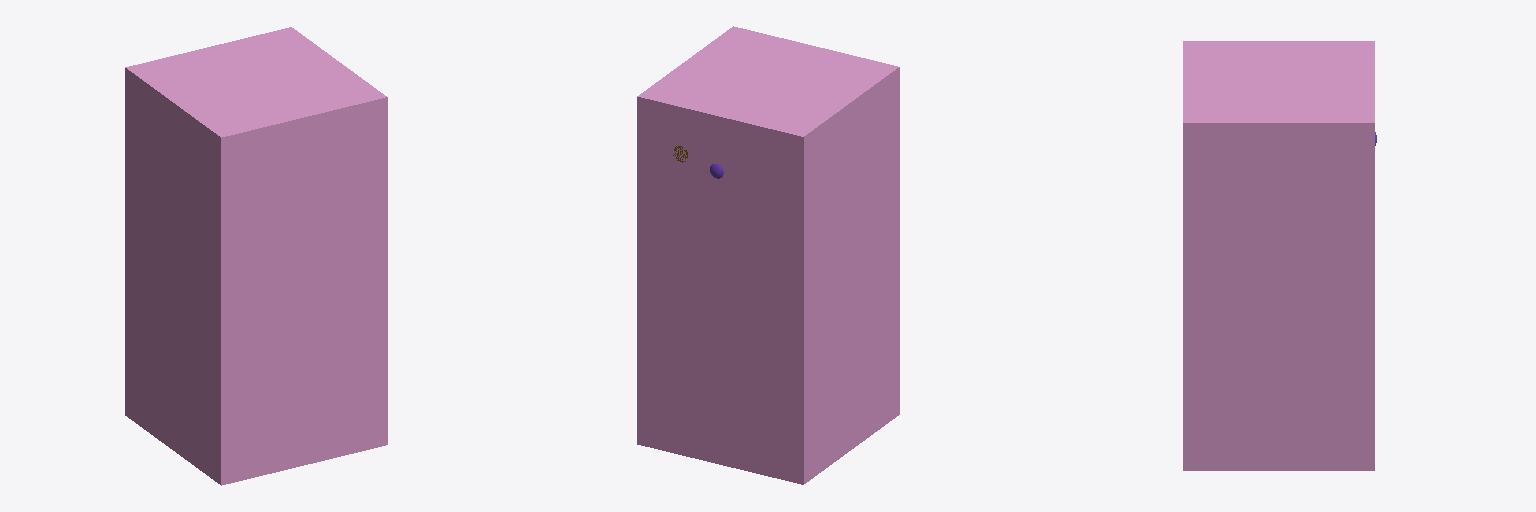
The picture shows the model from 3 angles: view 1: azimuth 30°, elevation 25°; view 2: azimuth 150°, elevation 25°; view 3: azimuth 270°, elevation 25°; orthographic projection.
Parts seen in each view (by area): view 1: Box001; view 2: Box001; view 3: Box001.
Part boxes in pixels (x1,y1,x2,y2): Box001: (125,27,387,485); Box001: (637,26,899,484); Box001: (1183,41,1374,470).
Bounding box in the file's own units: 1000 × 2000 × 1009.